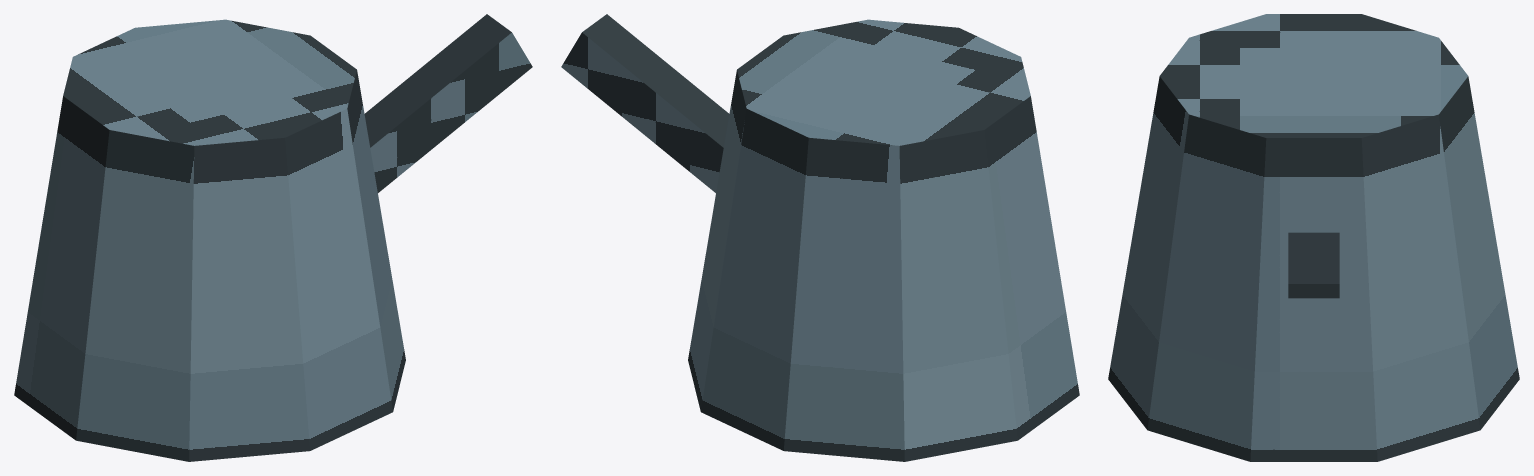
The model's file is watering_can.obj.
The picture shows the model from 3 angles, left to right: view 1: azimuth 30°, elevation 25°; view 2: azimuth 150°, elevation 25°; view 3: azimuth 270°, elevation 25°; orthographic projection. The views are drawn at different scales.
Size of the model in its own units: 0.4383 by 0.26 by 0.32.
1 material, 1 textured.
